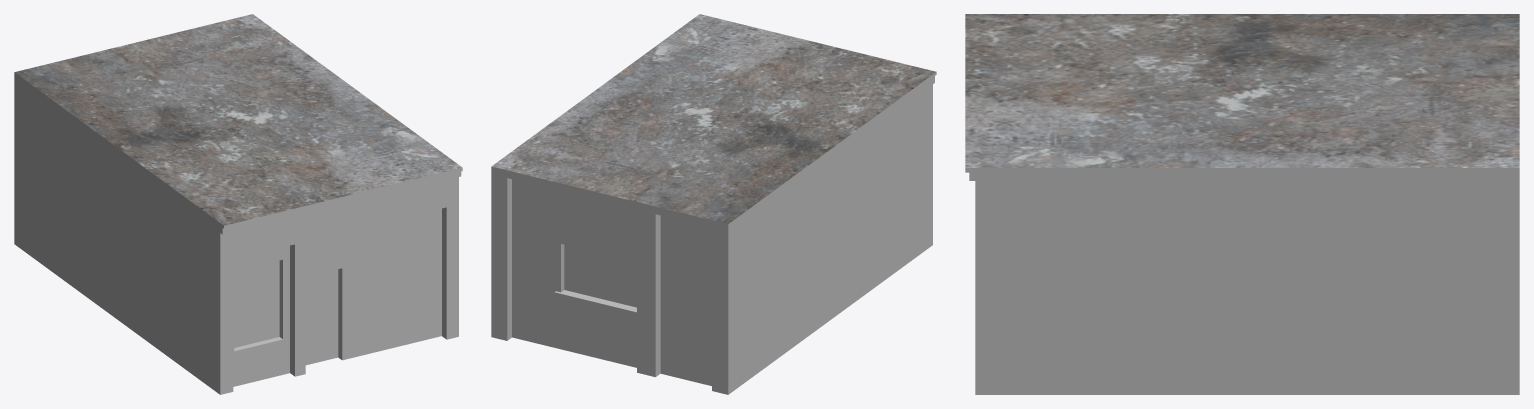
3 renders of one model, left to right at view 1: azimuth 30°, elevation 25°; view 2: azimuth 150°, elevation 25°; view 3: azimuth 270°, elevation 25°, orthographic. The views are drawn at different scales.
Visible parts, largest first — view 1: B15 (2); view 2: B15 (2); view 3: B15 (2).
Boxes of the visible parts, box(x1,y1,x2,y2) form: B15 (2): box(14, 14, 462, 394); B15 (2): box(491, 14, 936, 394); B15 (2): box(965, 14, 1519, 394).
Size of the model in its own units: 906 by 624 by 1380.
